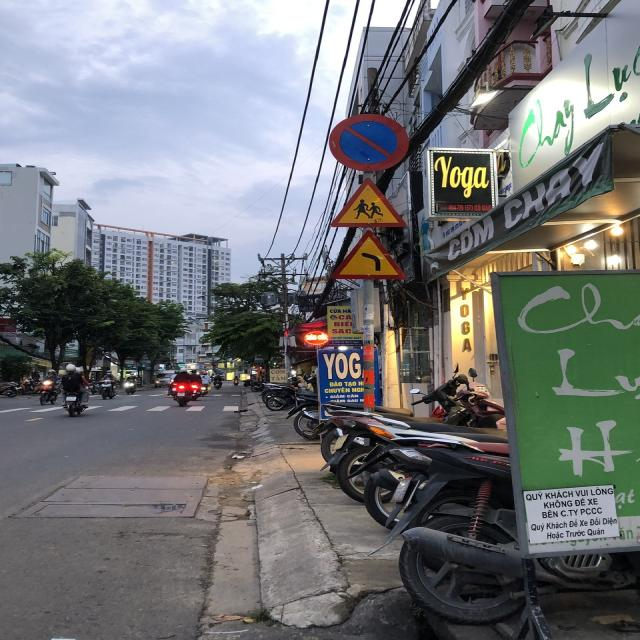Bien bao cam do xe: (323, 107, 413, 177)
Bien bao cho ngoat nguy hiem: (322, 224, 413, 286)
Bien bao tre em: (321, 174, 418, 233)
